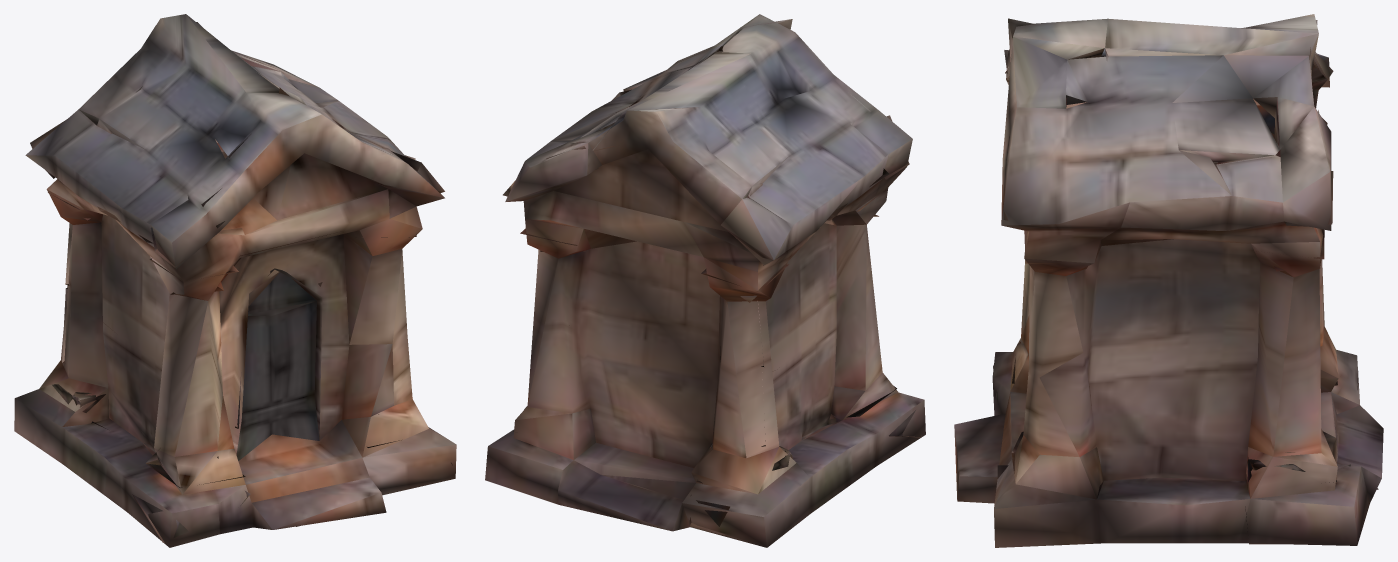
The model's file is lg-mausoleum.glb.
3 renders of one model, left to right at view 1: azimuth 30°, elevation 25°; view 2: azimuth 150°, elevation 25°; view 3: azimuth 270°, elevation 25°, orthographic. The views are drawn at different scales.
Visible parts, largest first — view 1: geometry_0; view 2: geometry_0; view 3: geometry_0.
Boxes of the visible parts, x1,y1,x2,y2 form: geometry_0: (14, 14, 456, 547); geometry_0: (485, 14, 925, 547); geometry_0: (954, 14, 1383, 547).
Bounding box in the file's own units: 0.763 × 1 × 0.8657.
1 material, 1 textured.
